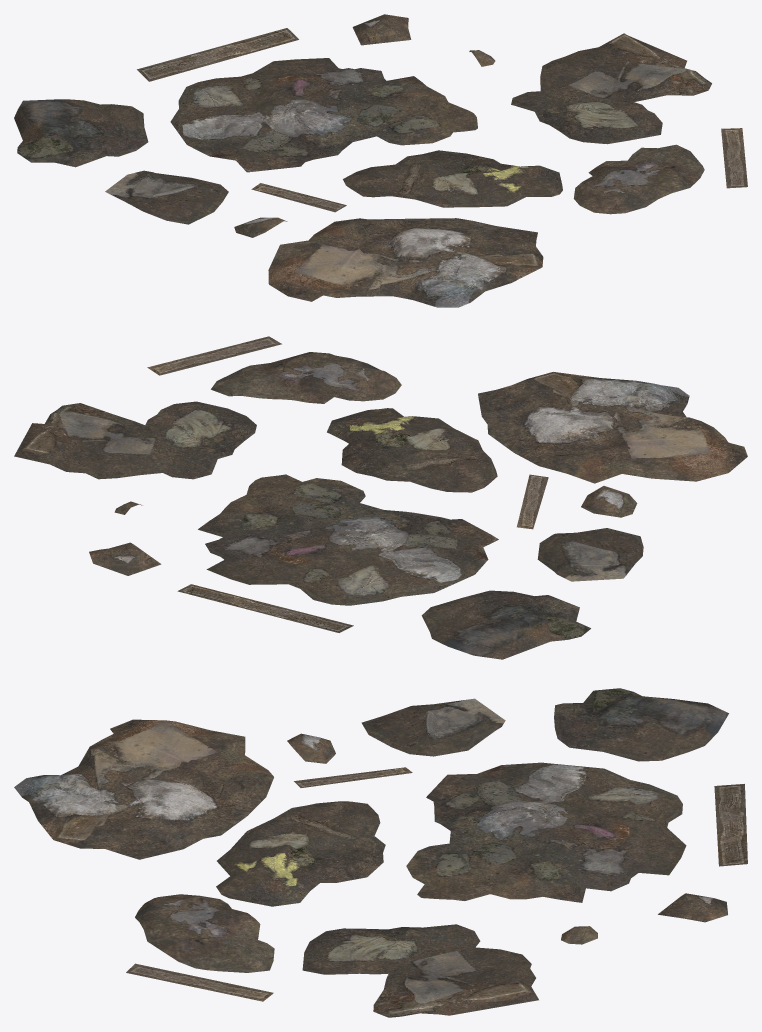
Rendered from sm20_023_sewagegroundgarbage03a.fbx.
The picture shows the model from 3 angles, top to bottom: view 1: azimuth 30°, elevation 25°; view 2: azimuth 150°, elevation 25°; view 3: azimuth 270°, elevation 25°; orthographic projection. The views are drawn at different scales.
Visible parts, largest first — view 1: LOD_1_Group_0_Sub_1__sm20_023_SewageGroundGarbage03A_A_Mat__; view 2: LOD_1_Group_0_Sub_1__sm20_023_SewageGroundGarbage03A_A_Mat__; view 3: LOD_1_Group_0_Sub_1__sm20_023_SewageGroundGarbage03A_A_Mat__.
Part boxes in pixels (<box>): LOD_1_Group_0_Sub_1__sm20_023_SewageGroundGarbage03A_A_Mat__: <box>14,14,747,307</box>; LOD_1_Group_0_Sub_1__sm20_023_SewageGroundGarbage03A_A_Mat__: <box>14,336,747,659</box>; LOD_1_Group_0_Sub_1__sm20_023_SewageGroundGarbage03A_A_Mat__: <box>14,688,747,1017</box>.
Size of the model in its own units: 2.49 by 0.0567 by 2.34.
